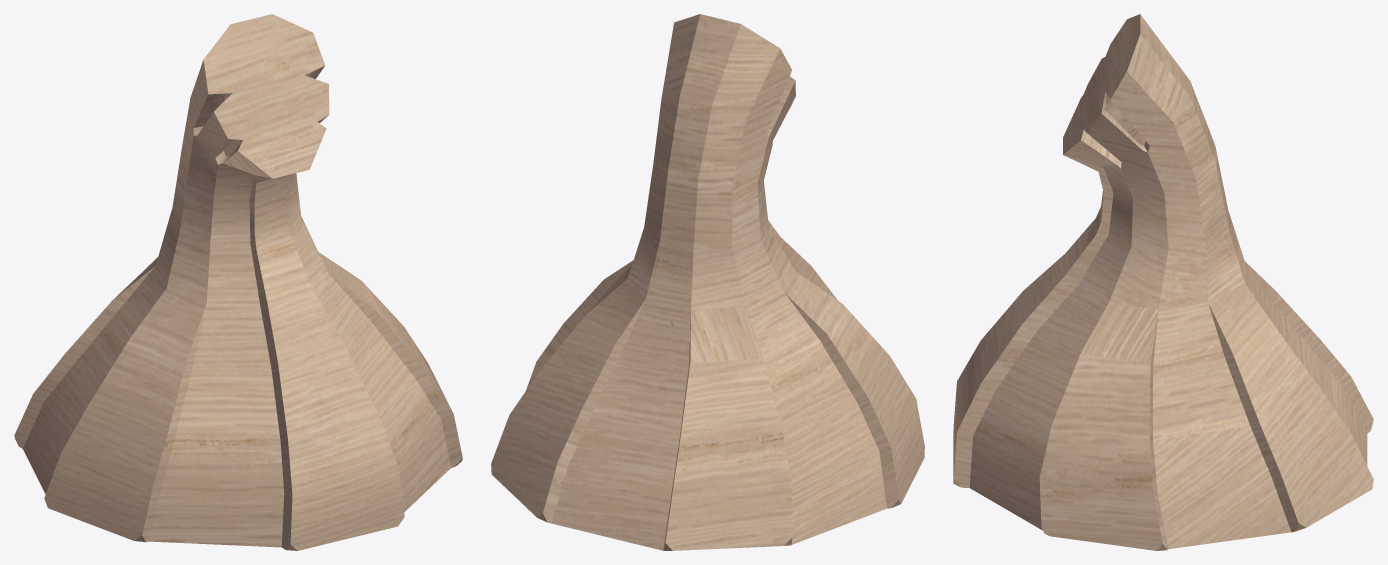
Rendered from light-vip-hallacirya-ship.glb.
The picture shows the model from 3 angles, left to right: view 1: azimuth 30°, elevation 25°; view 2: azimuth 150°, elevation 25°; view 3: azimuth 270°, elevation 25°; orthographic projection. The views are drawn at different scales.
Visible parts, largest first — view 1: Circle.002; view 2: Circle.002; view 3: Circle.002.
Part boxes in pixels (x1,y1,x2,y2): Circle.002: (14,14,462,550); Circle.002: (491,14,924,550); Circle.002: (953,14,1373,550).
Bounding box in the file's own units: 2.18 × 2.4 × 2.09.
1 material, 1 textured.
